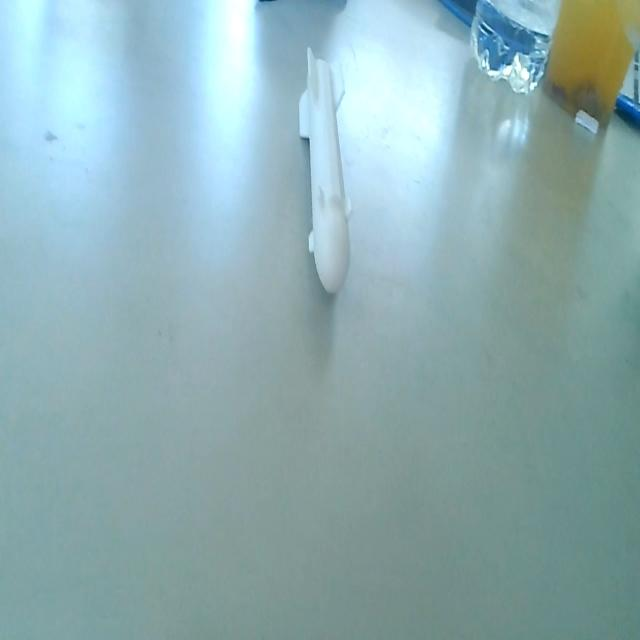Rocket: (296, 44, 354, 300)
